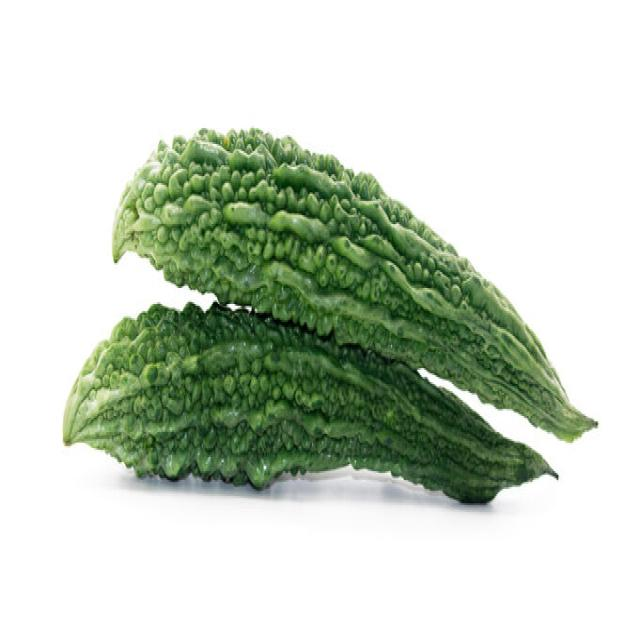Bitter_Gourd: (111, 122, 598, 444), (62, 299, 559, 505)
